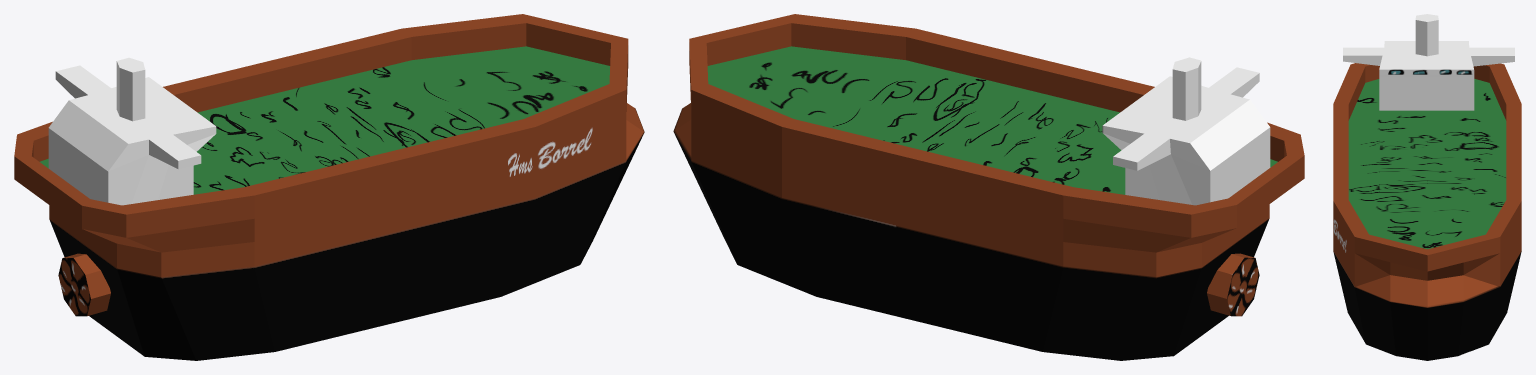
The model's file is ship.fbx.
The picture shows the model from 3 angles, left to right: view 1: azimuth 30°, elevation 25°; view 2: azimuth 150°, elevation 25°; view 3: azimuth 270°, elevation 25°; orthographic projection. The views are drawn at different scales.
Visible parts, largest first — view 1: pCylinder2; view 2: pCylinder2; view 3: pCylinder2.
Part boxes in pixels (x1=…): pCylinder2: x1=14, y1=14, x2=644, y2=360; pCylinder2: x1=673, y1=14, x2=1304, y2=360; pCylinder2: x1=1333, y1=14, x2=1521, y2=360.
Size of the model in its own units: 1.53 by 0.6621 by 0.6034.
